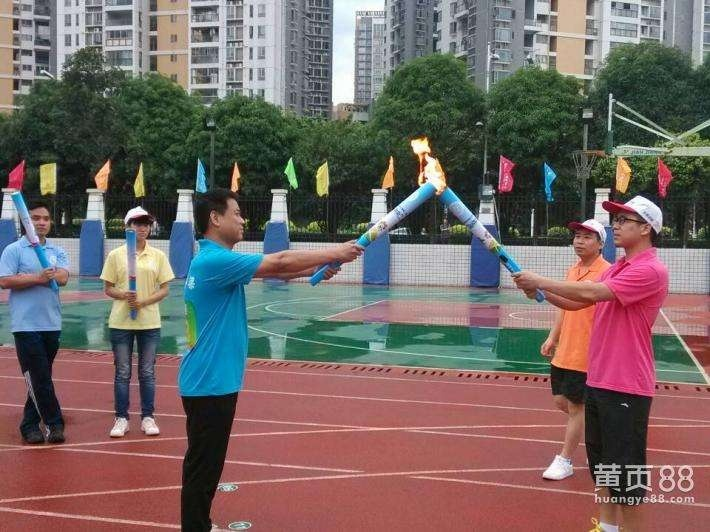fire: (410, 133, 446, 192)
